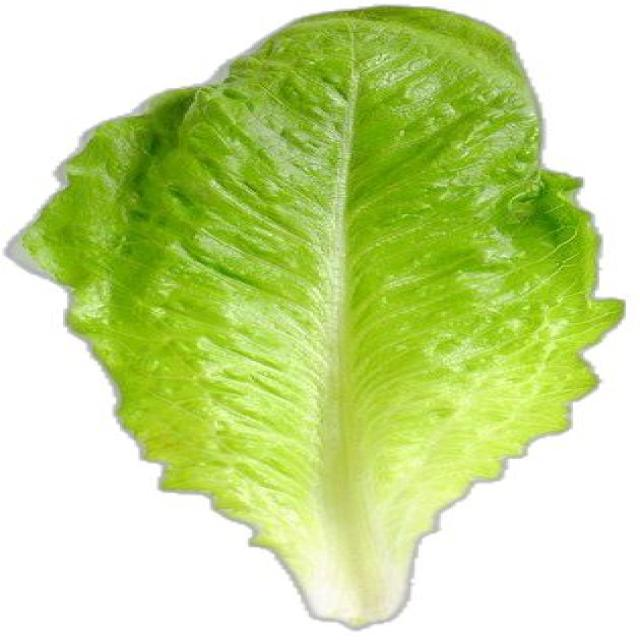lettuce: (25, 8, 621, 625)
